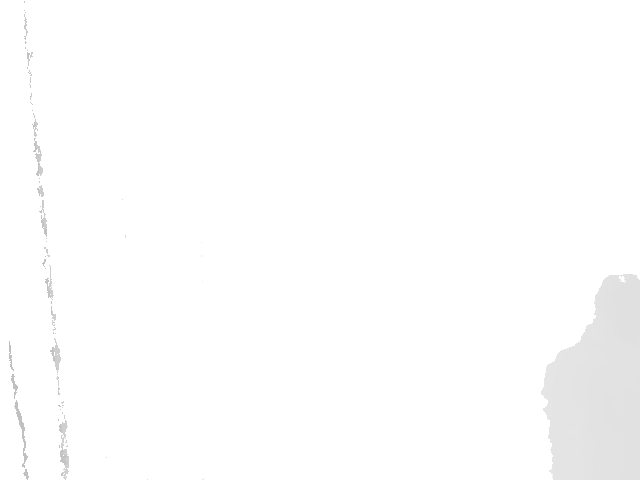head: (593, 274, 640, 334)
person: (541, 274, 640, 480)
